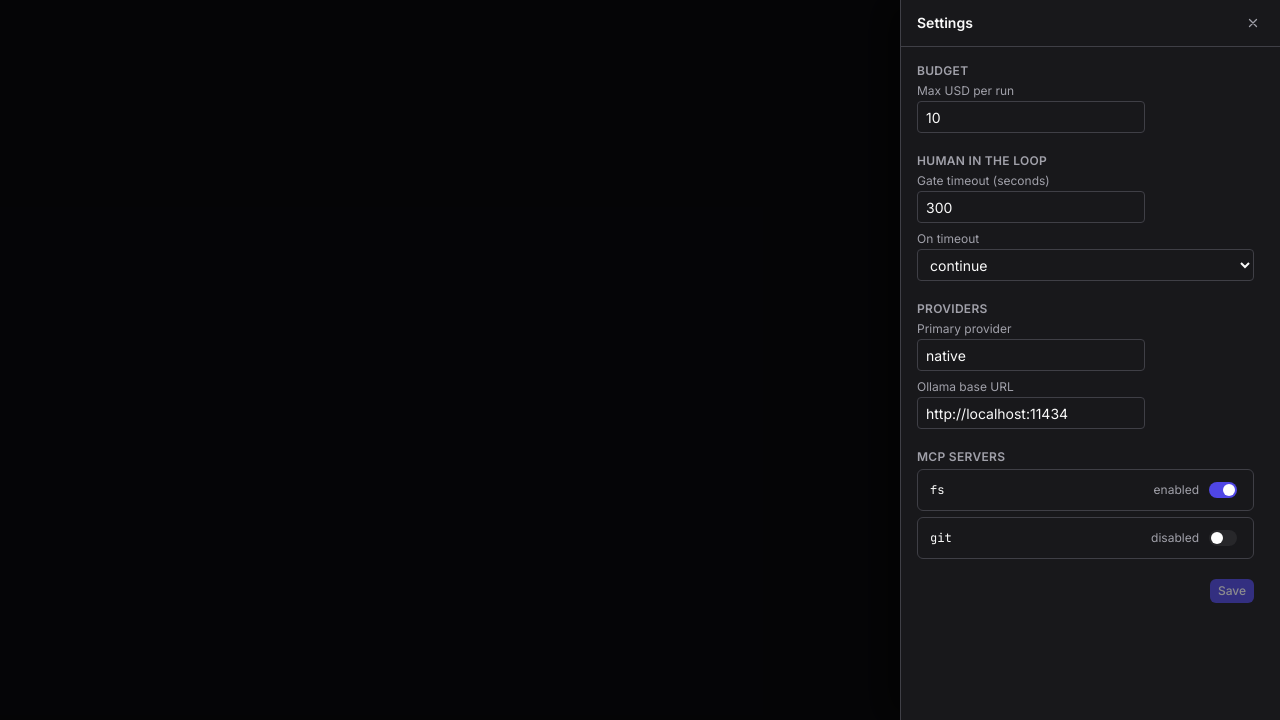
Test case: SettingsPanel (Fase D/E9) › saves a changed budget as a PATCH with only budget (partial)
Replace the text in the field named "Budget max USD" with "25" at (1031,117), box [917, 101, 1145, 133]
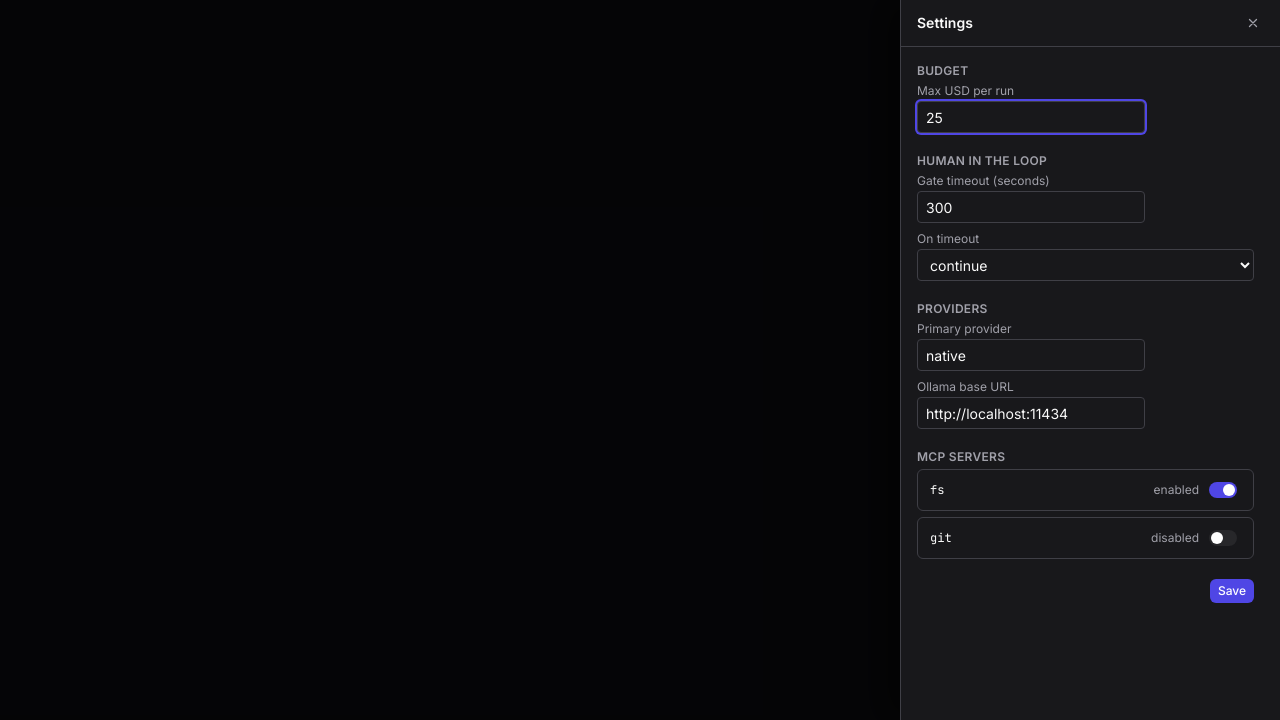
Click the button "Save".
click(1232, 591)  # box [1210, 579, 1254, 603]
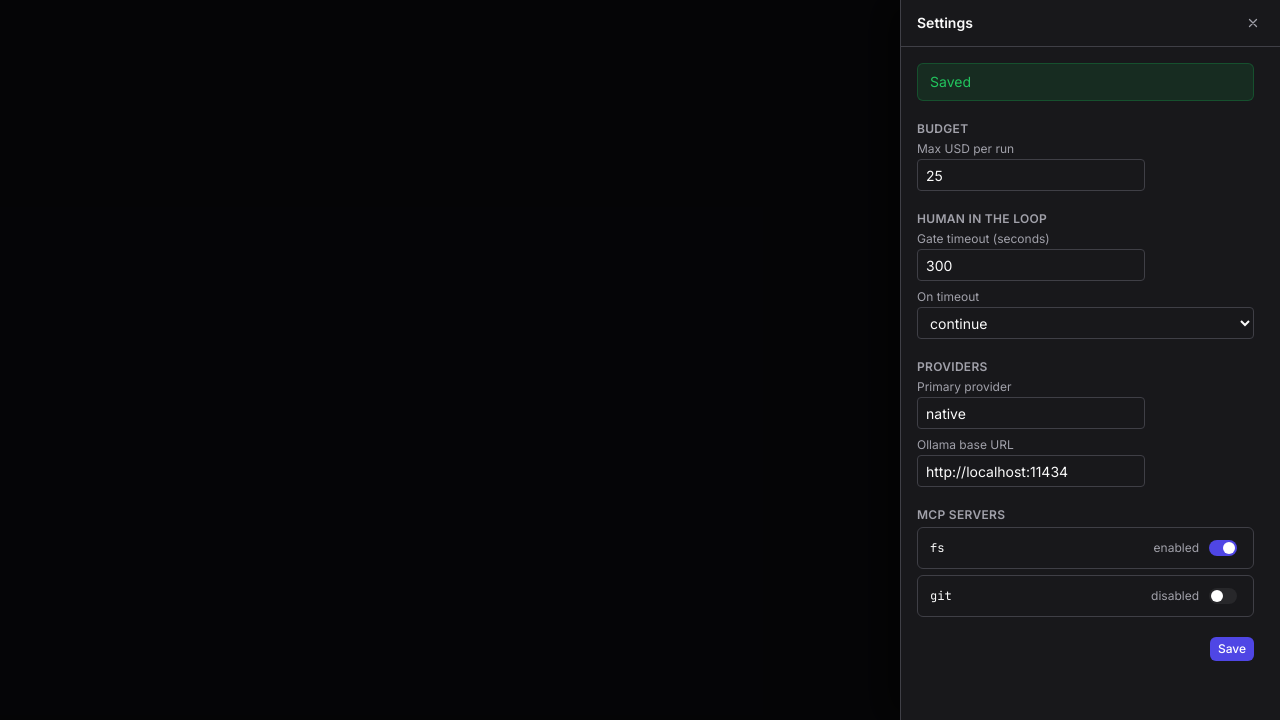
Expected: the message reads "Saved", [930, 73, 971, 90]
